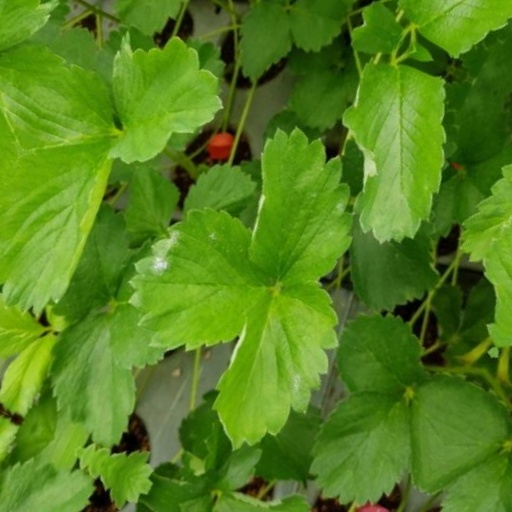Powdery Mildew Leaf: (263, 9, 395, 189), (151, 229, 290, 387), (270, 248, 377, 439), (209, 121, 336, 272)
